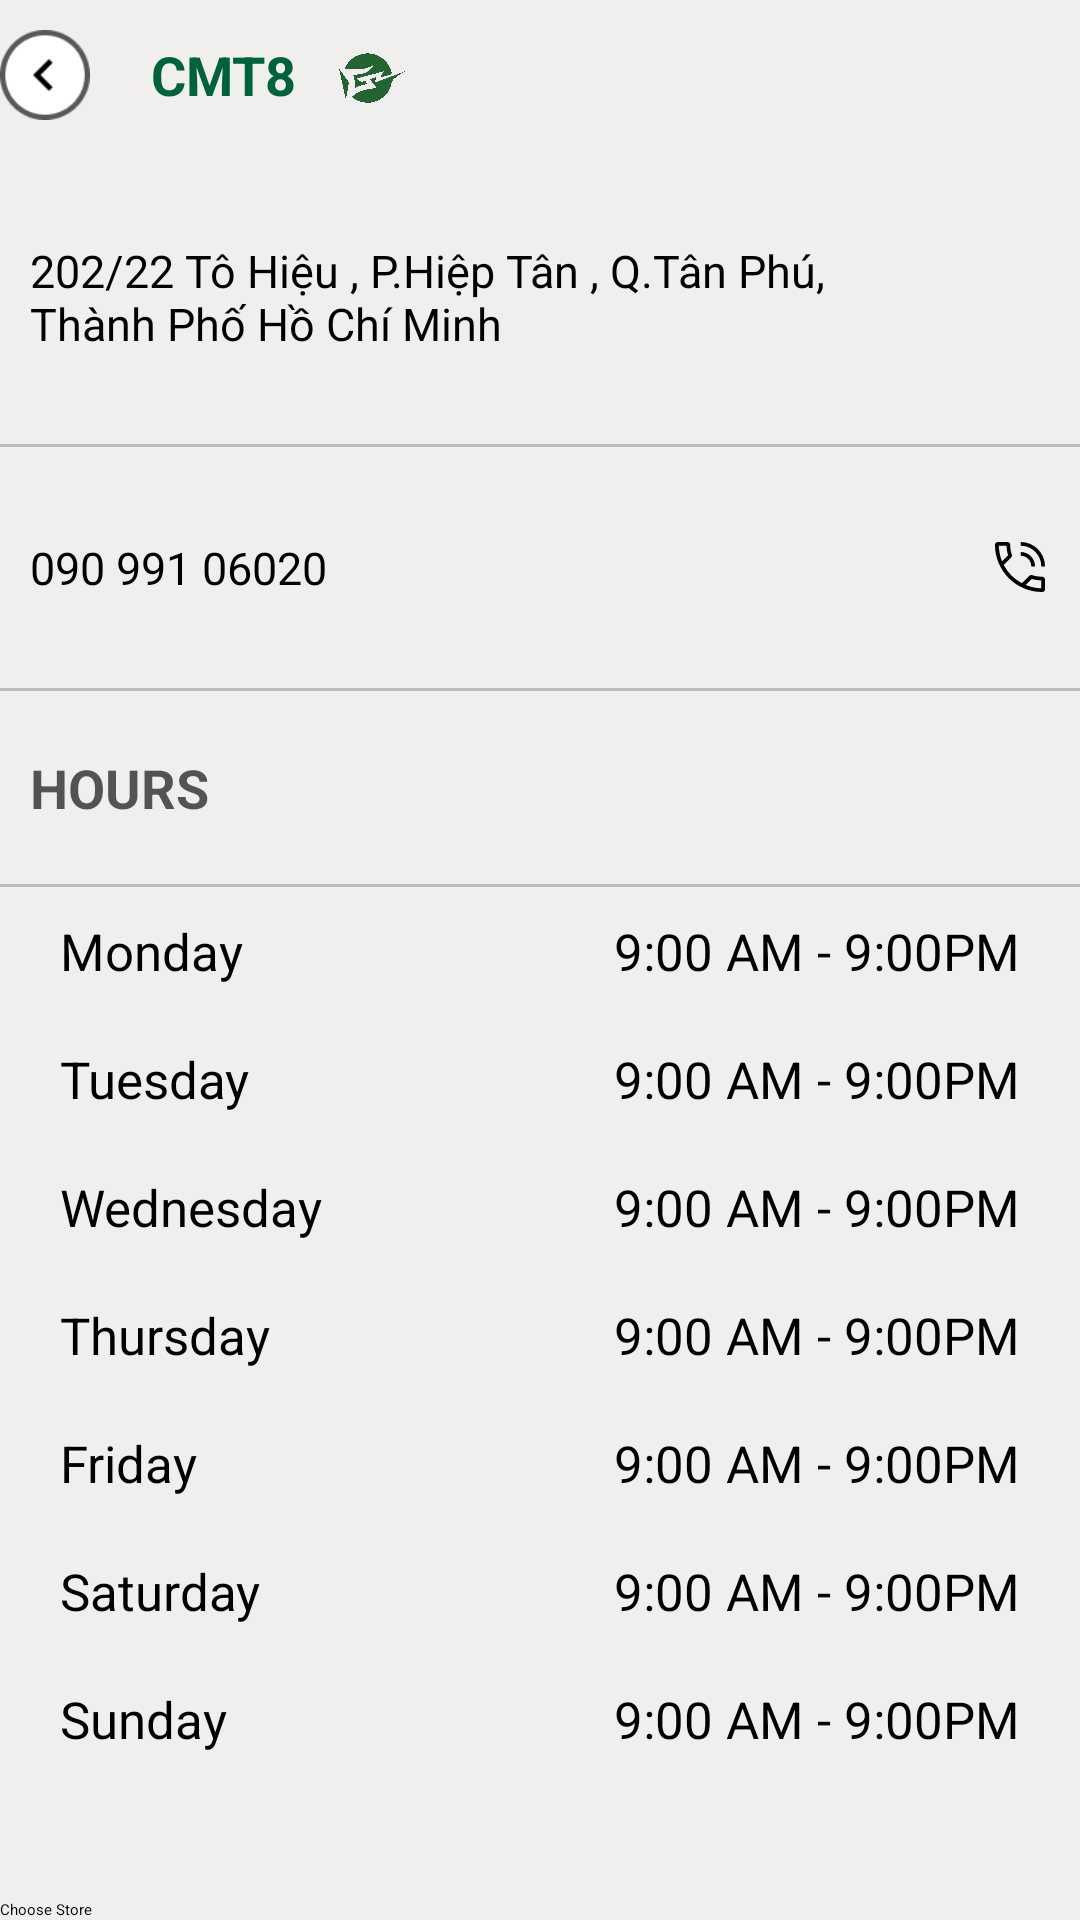

Named icons in this screenshot (1080 x 1920) and their bounding boxes, (left=x1, top=y1, right=x2, bottom=y2):
back: (left=0, top=30, right=90, bottom=120)
